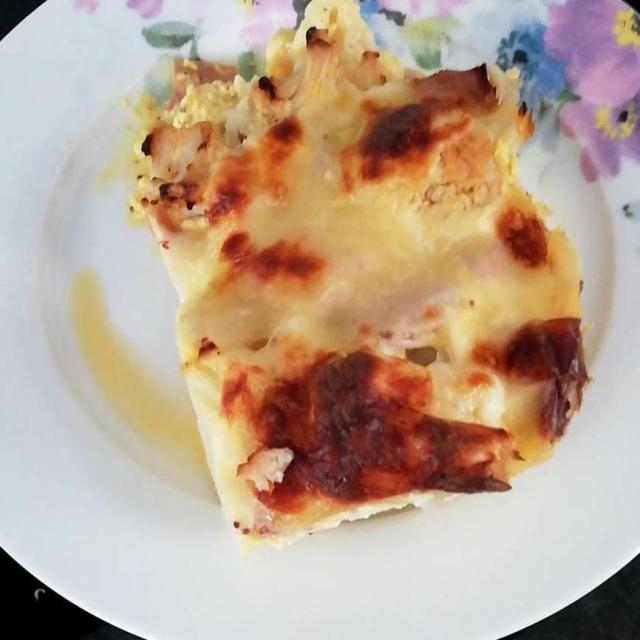lasagne-meat-prepared: (150, 17, 580, 537)
